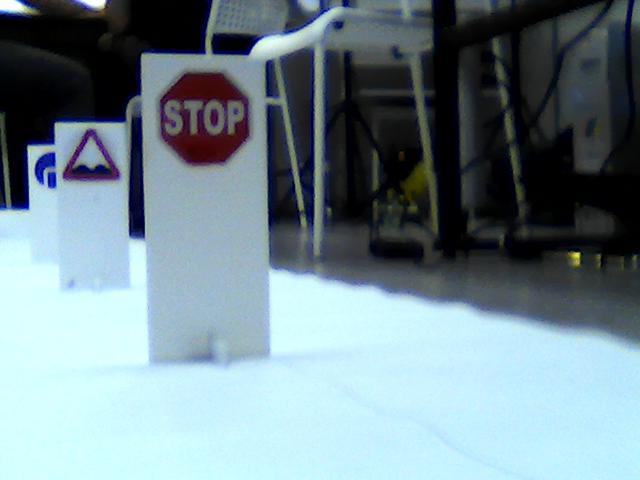Nerov: (62, 128, 122, 183)
Stop: (157, 68, 250, 163)
